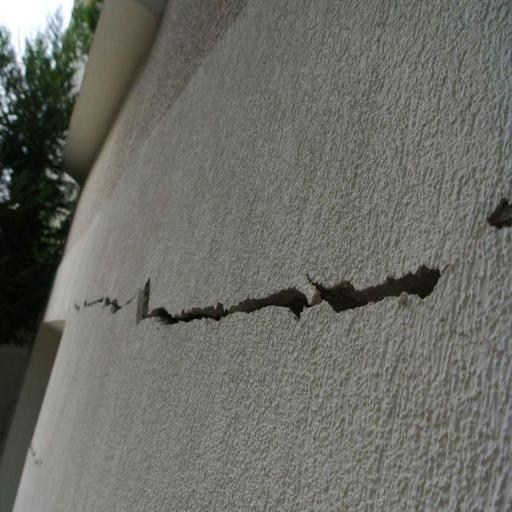spalling: (114, 251, 449, 330)
